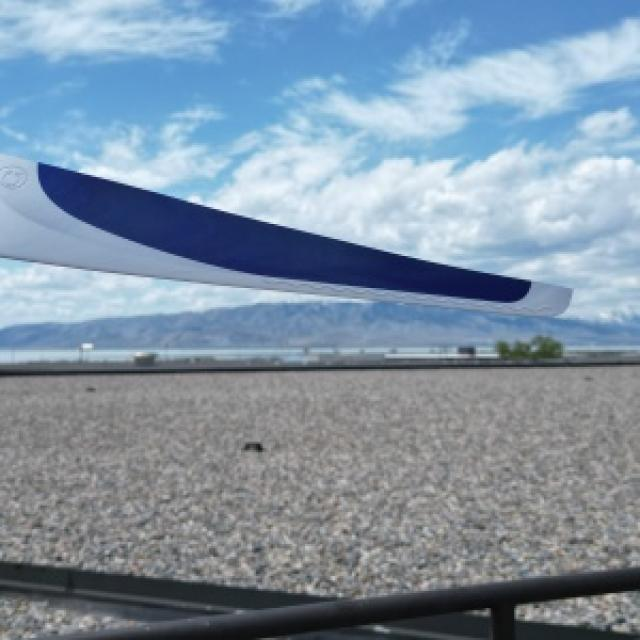healthy: (0, 151, 567, 314)
